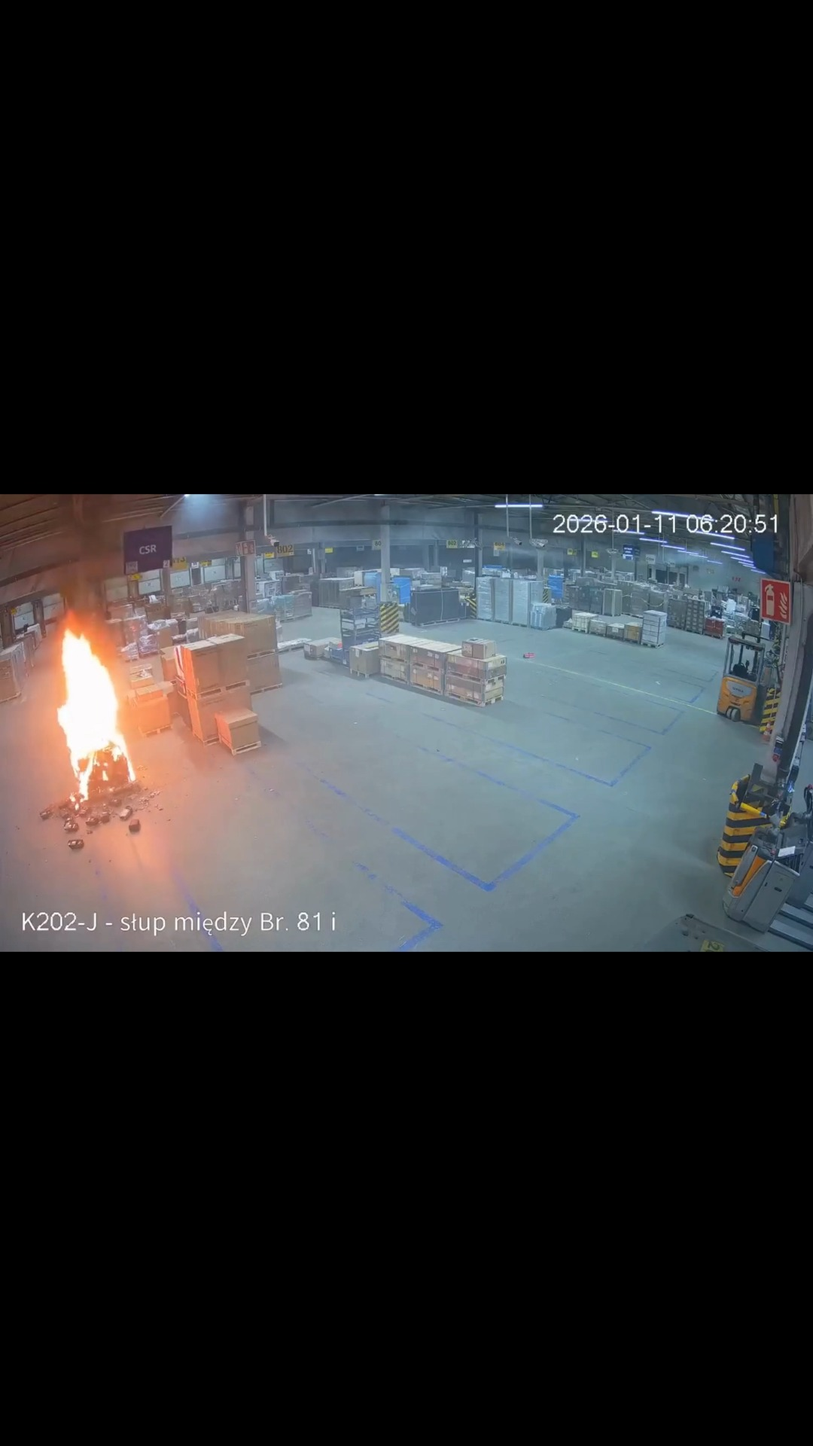fire: (56, 609, 137, 813)
smoke: (44, 496, 128, 632)
